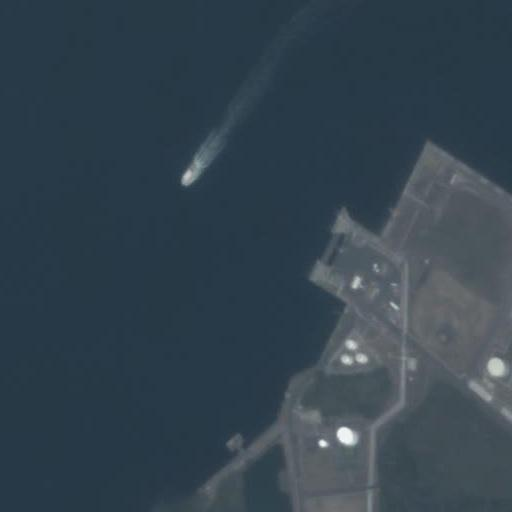person: (181, 170, 194, 186)
